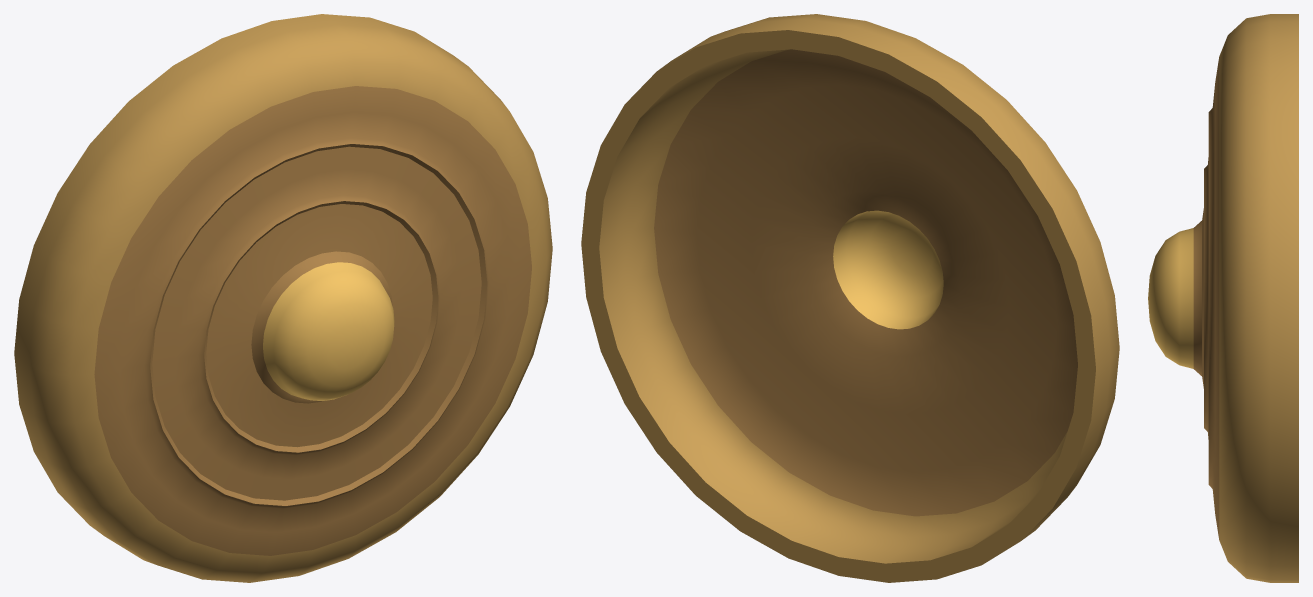
Rendered from gamelar_gong_ageng.fbx.
3 renders of one model, left to right at view 1: azimuth 30°, elevation 25°; view 2: azimuth 150°, elevation 25°; view 3: azimuth 270°, elevation 25°, orthographic. The views are drawn at different scales.
Visible parts, largest first — view 1: GongAgeng_Mesh; view 2: GongAgeng_Mesh; view 3: GongAgeng_Mesh.
Part boxes in pixels (x1,y1,x2,y2): GongAgeng_Mesh: (14,14,552,582); GongAgeng_Mesh: (581,14,1119,582); GongAgeng_Mesh: (1148,14,1298,582).
Size of the model in its own units: 0.3 by 0.3 by 0.0795.
